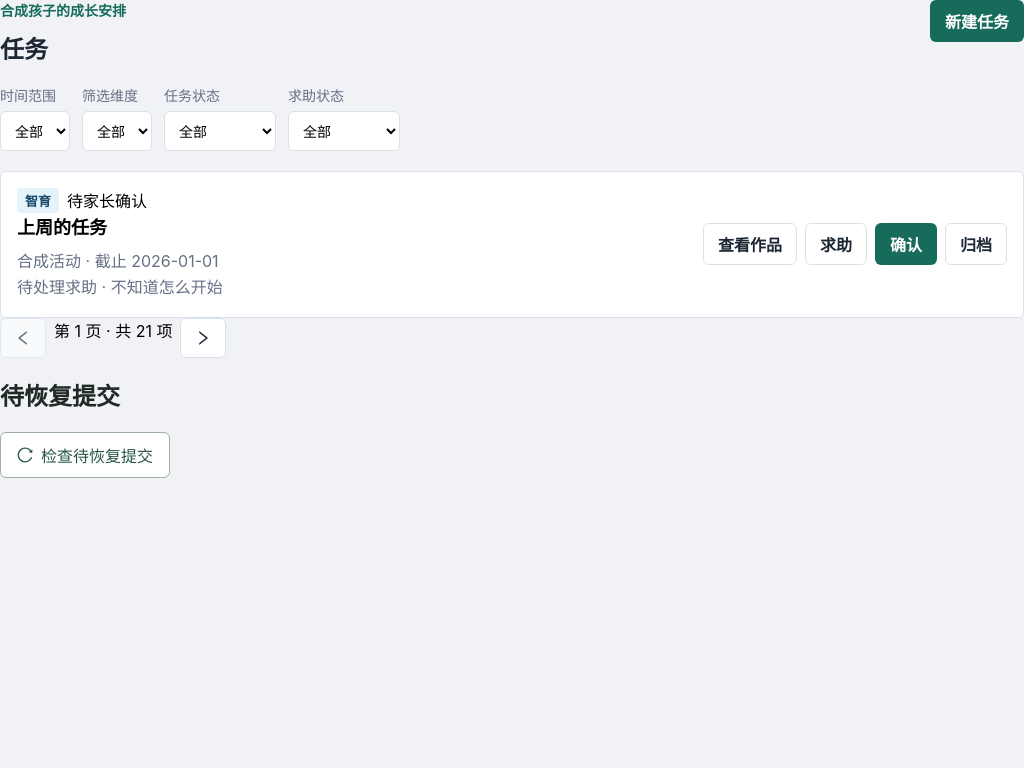
selecting help filter clears earlier date/status constraints and opens actual task help
Expected: the heading "上周的任务" is shown, [17, 217, 107, 238]
Select "今天" in the dropdown labelled "时间范围" at (35, 131), box [0, 111, 70, 151]
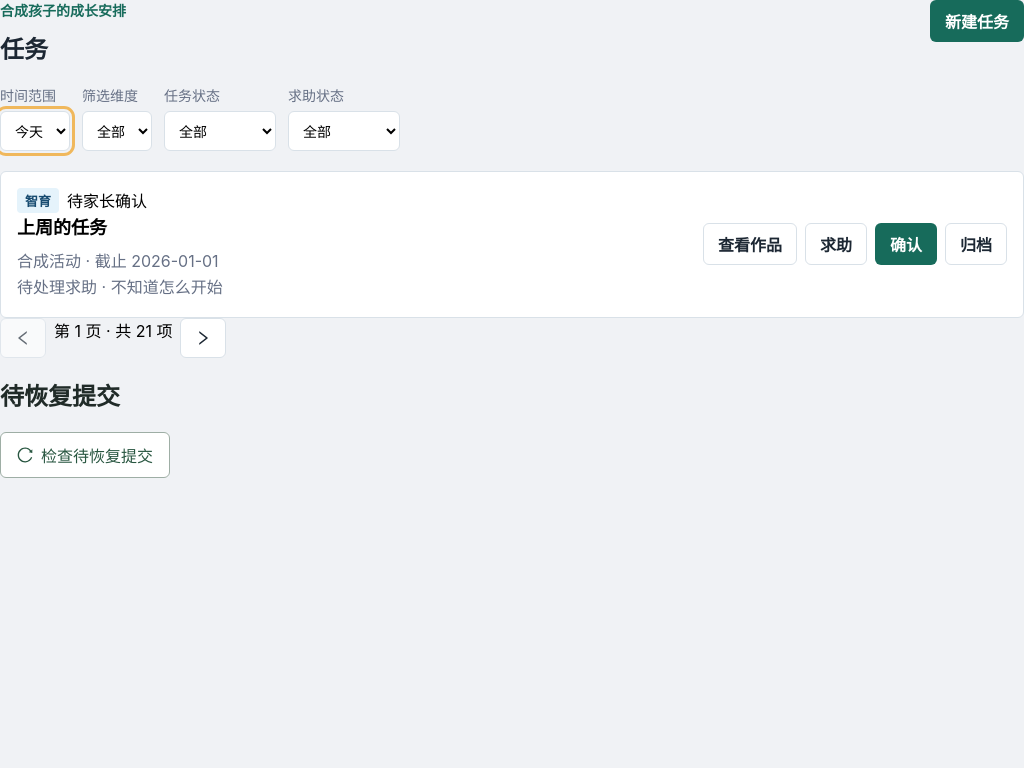
Select "待完成" in the dropdown labelled "任务状态" at (220, 131), box [164, 111, 276, 151]
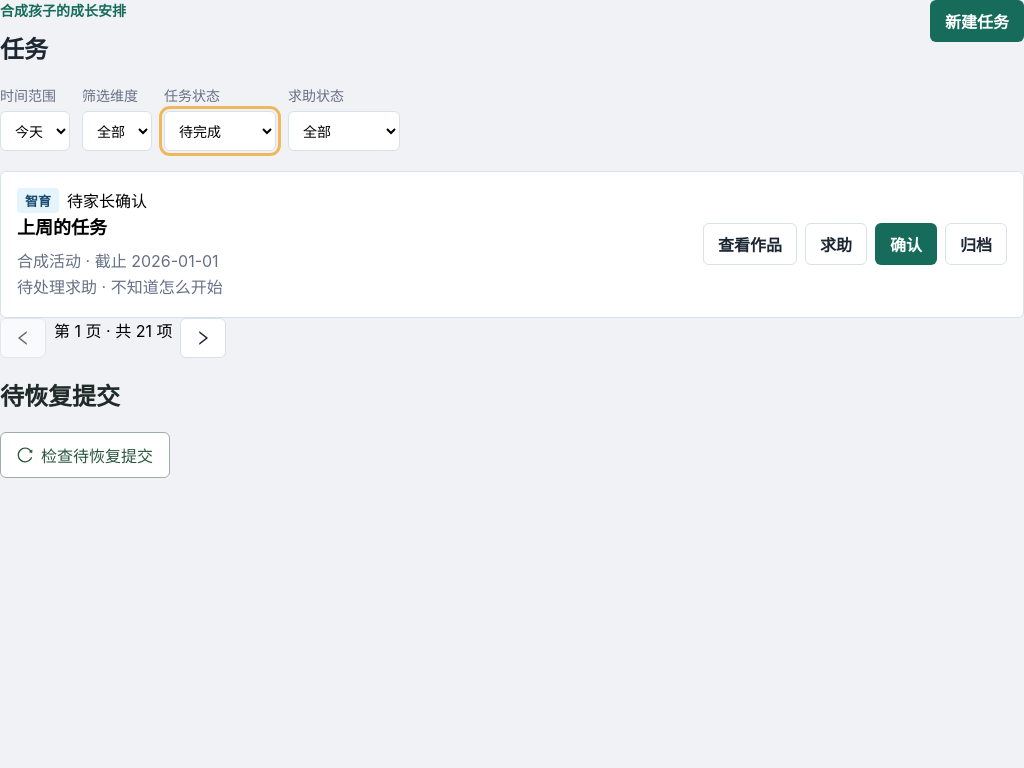
Select "待处理求助" in the dropdown labelled "求助状态" at (344, 131), box [288, 111, 400, 151]
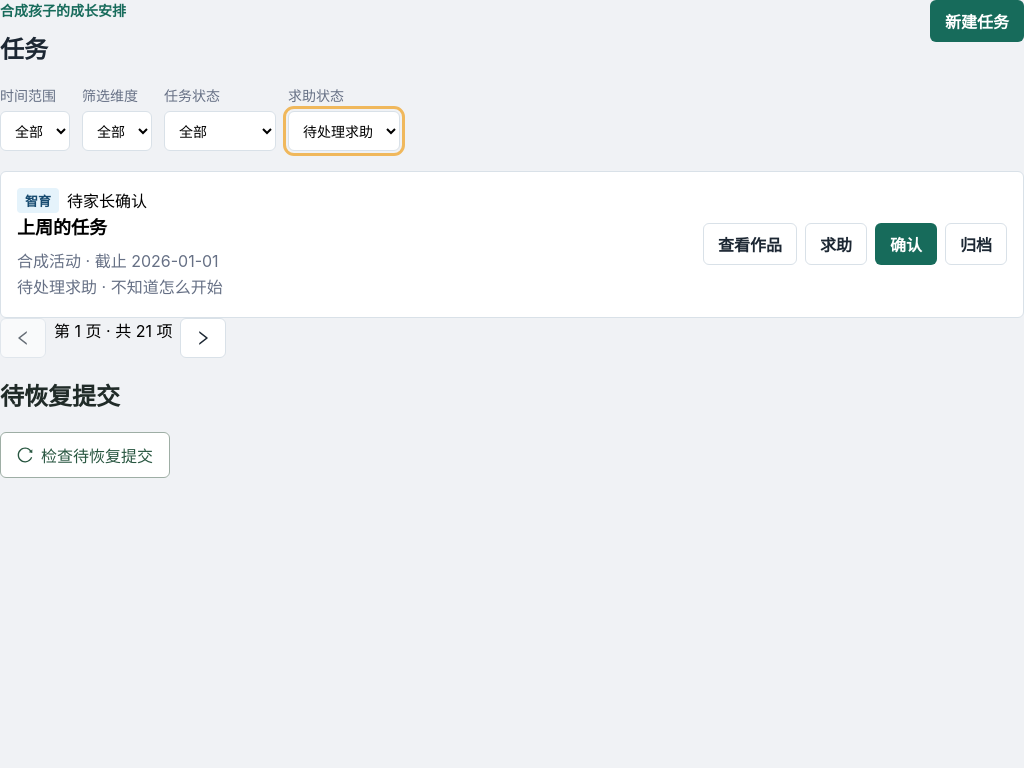
Click the button with aria-label "求助 上周的任务" at (836, 244), box [805, 224, 867, 266]
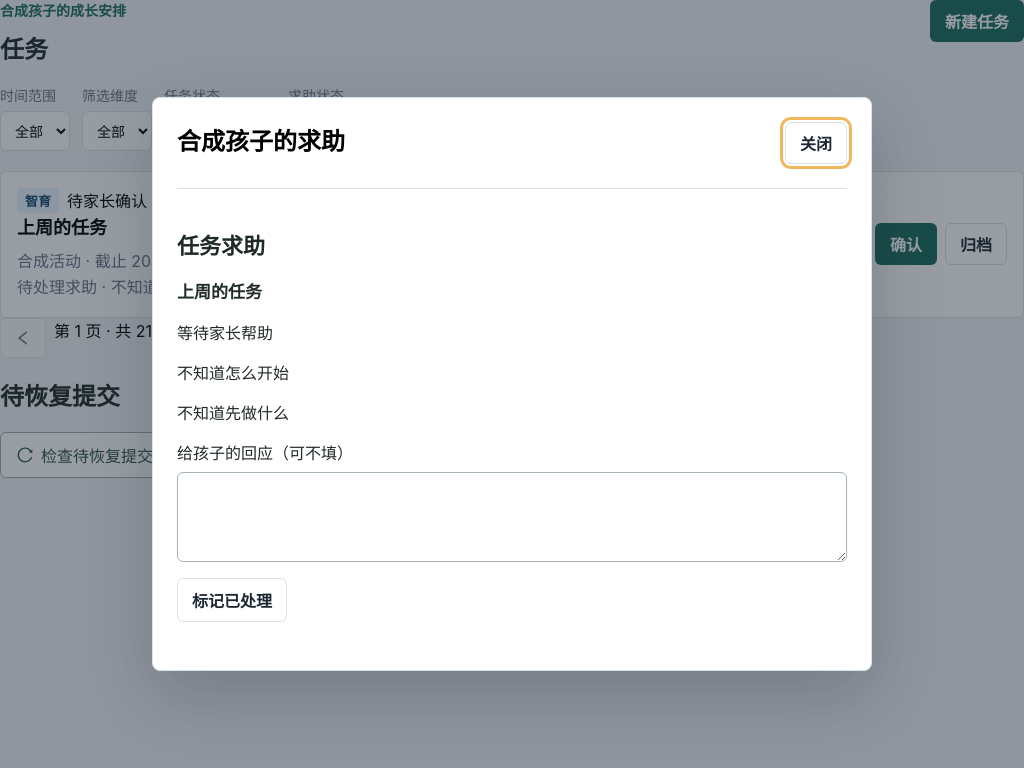
Expected: the text "不知道先做什么" is shown, [177, 403, 289, 423]
Type "先读第一行" into the text box labelled "给孩子的回应（可不填）" at (512, 517), box [177, 472, 847, 562]
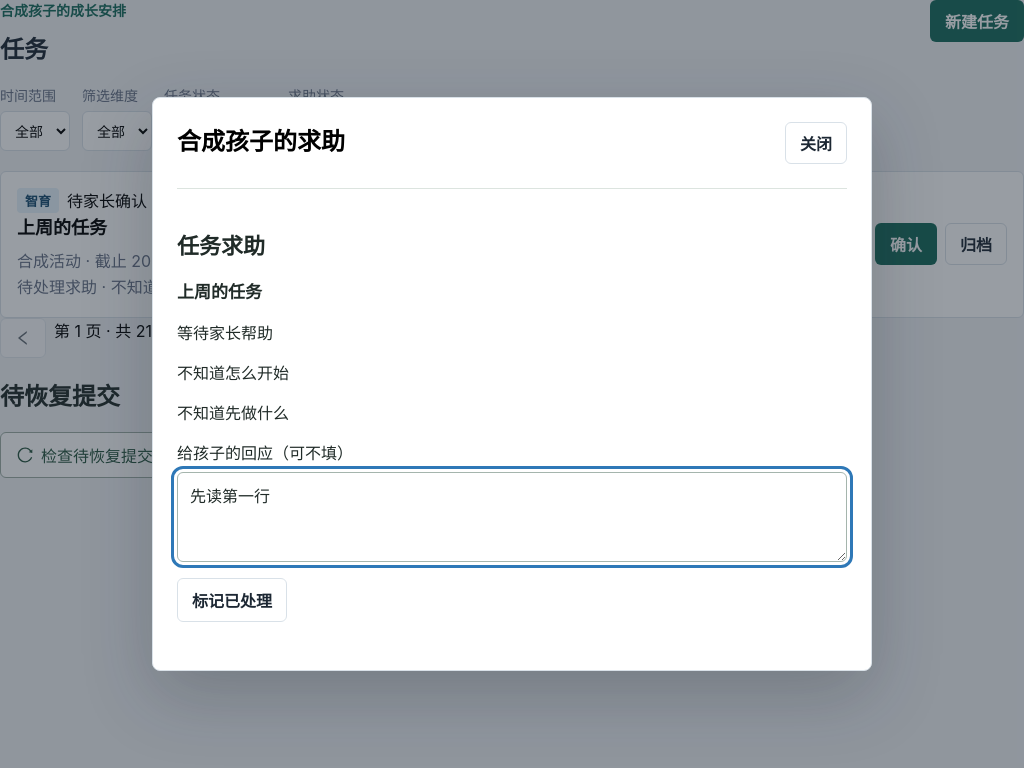
Click the button "标记已处理" at (232, 600), box [177, 578, 287, 622]
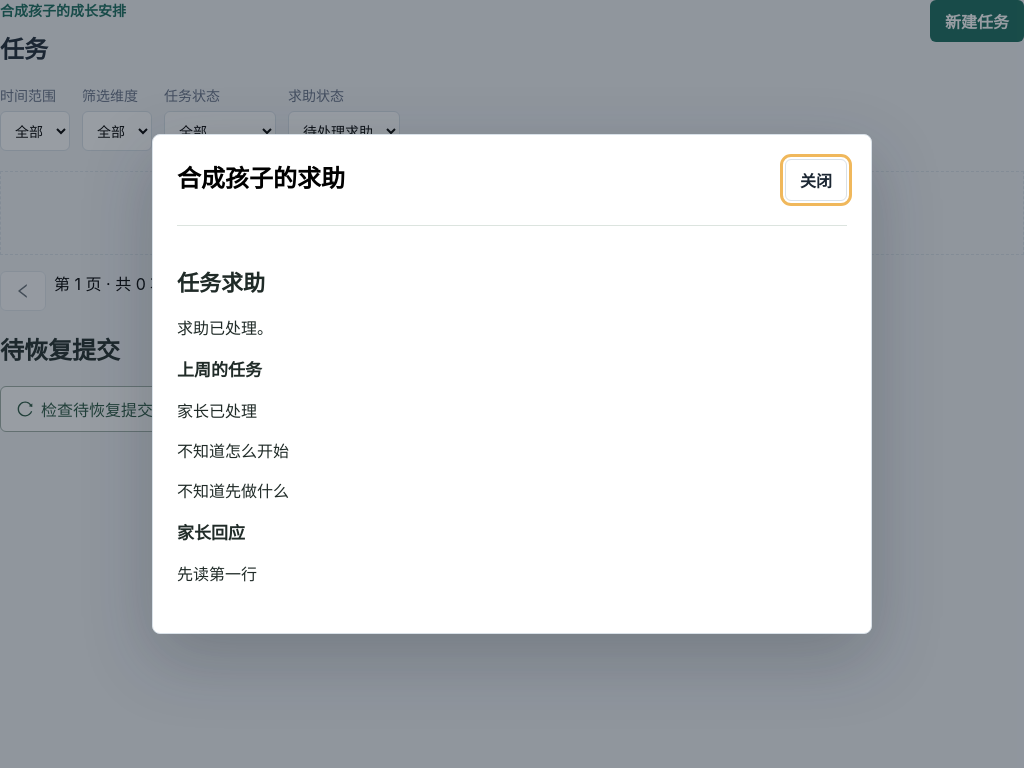
Expected: the text "先读第一行" is shown, [177, 564, 257, 584]
Expected: the text "暂无成长任务" is shown, [0, 171, 1023, 255]
